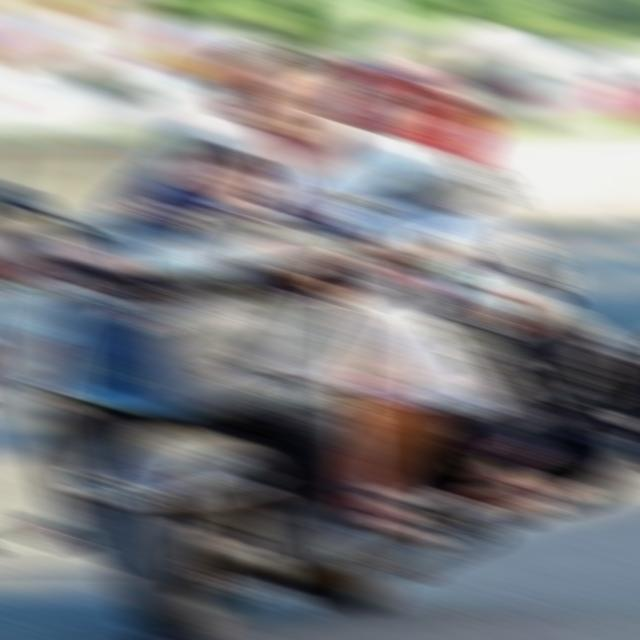Without Helmet: (183, 38, 363, 146)
